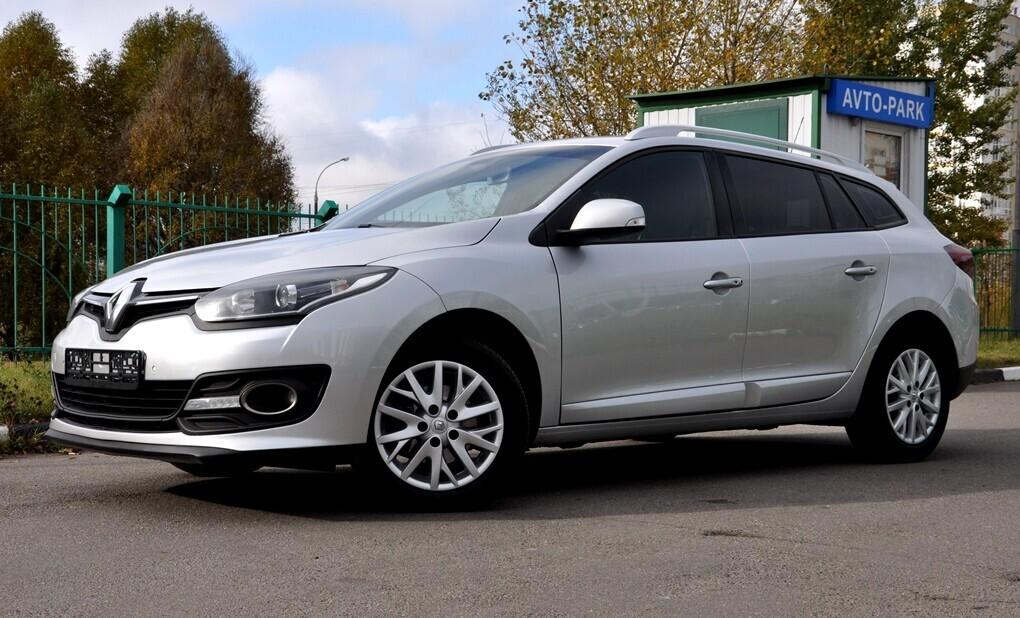Megane_2014-2016: (53, 119, 986, 486)
